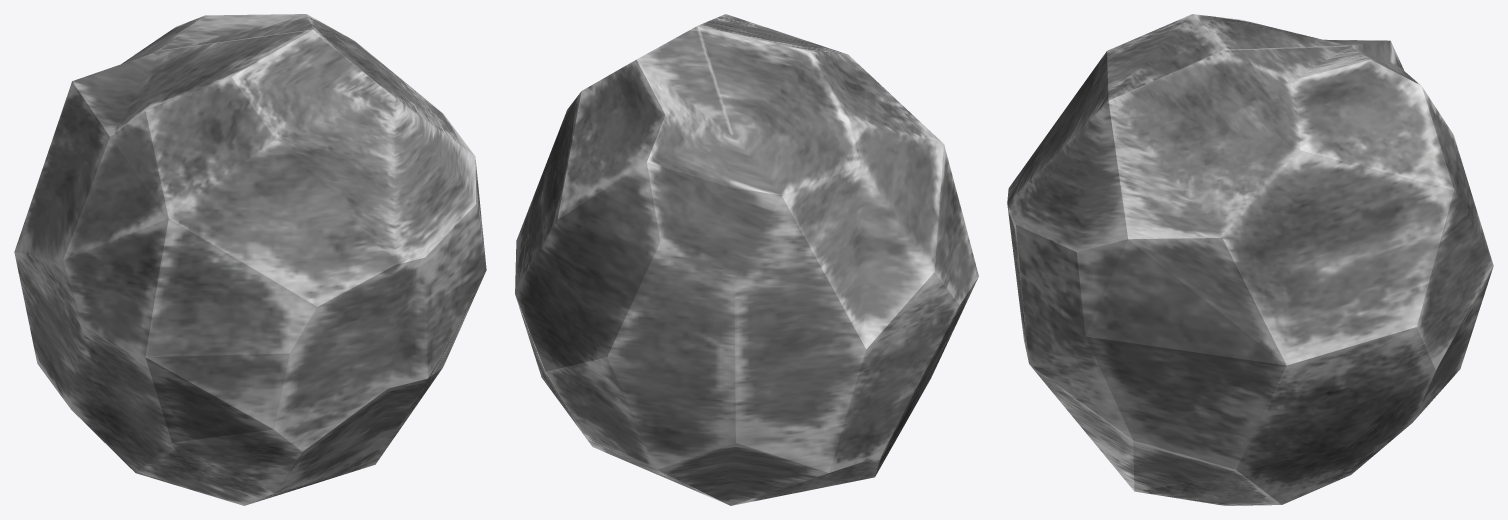
File: eff_Rock02.fbx
The picture shows the model from 3 angles, left to right: view 1: azimuth 30°, elevation 25°; view 2: azimuth 150°, elevation 25°; view 3: azimuth 270°, elevation 25°; orthographic projection. The views are drawn at different scales.
Visible parts, largest first — view 1: eff_Rock02_msh; view 2: eff_Rock02_msh; view 3: eff_Rock02_msh.
Part boxes in pixels (<box>): eff_Rock02_msh: <box>14,14,486,505</box>; eff_Rock02_msh: <box>515,14,978,505</box>; eff_Rock02_msh: <box>1007,14,1493,505</box>.
Bounding box in the file's own units: 1.44 × 1.57 × 1.47.
